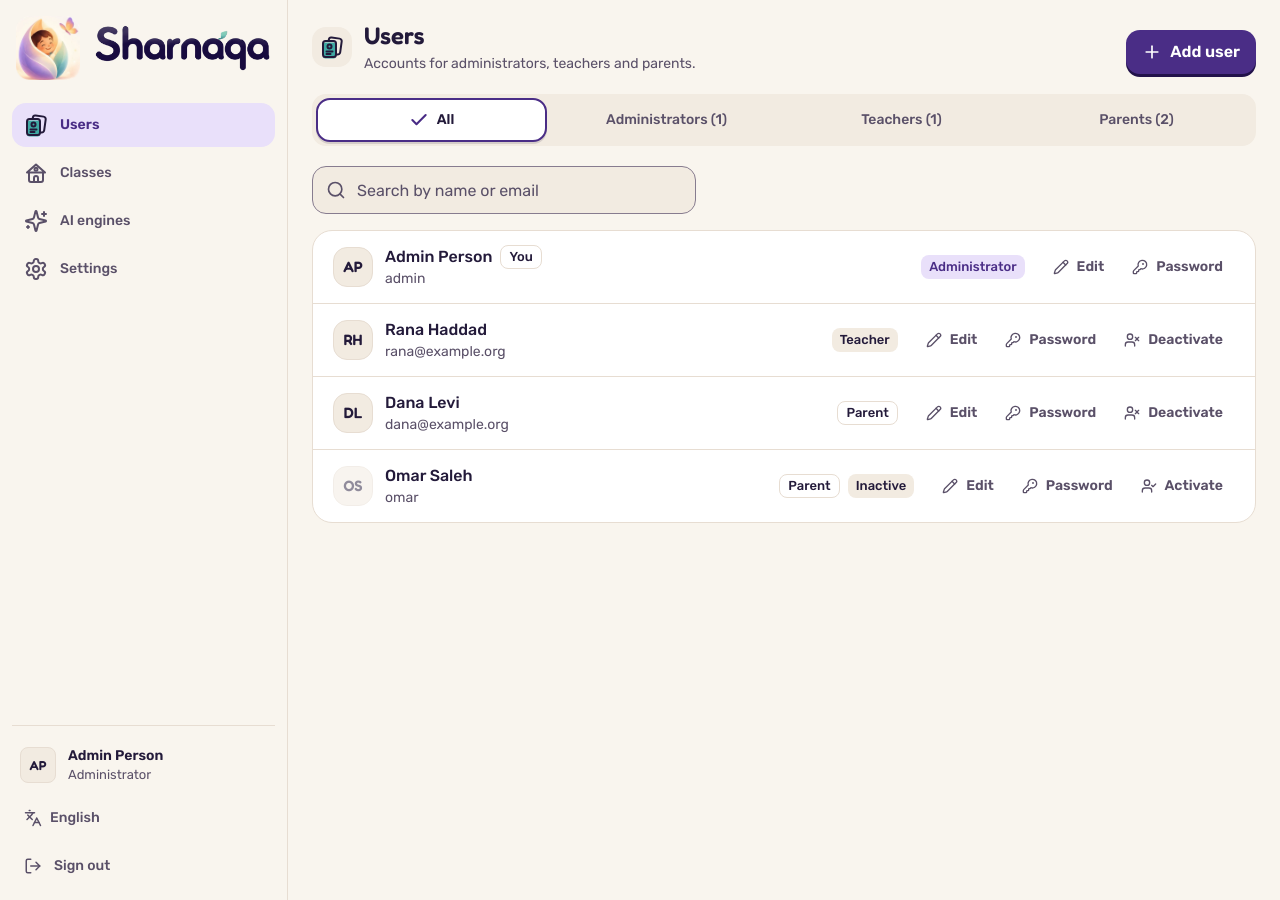
Test: UsersPage › filters by role tab and search
Expected: the text "Rana Haddad" is shown, top-left (385, 318), bottom-right (487, 342)
Click the tab "Parents (2)".
click(1136, 120)  # box top-left (1021, 98), bottom-right (1252, 142)
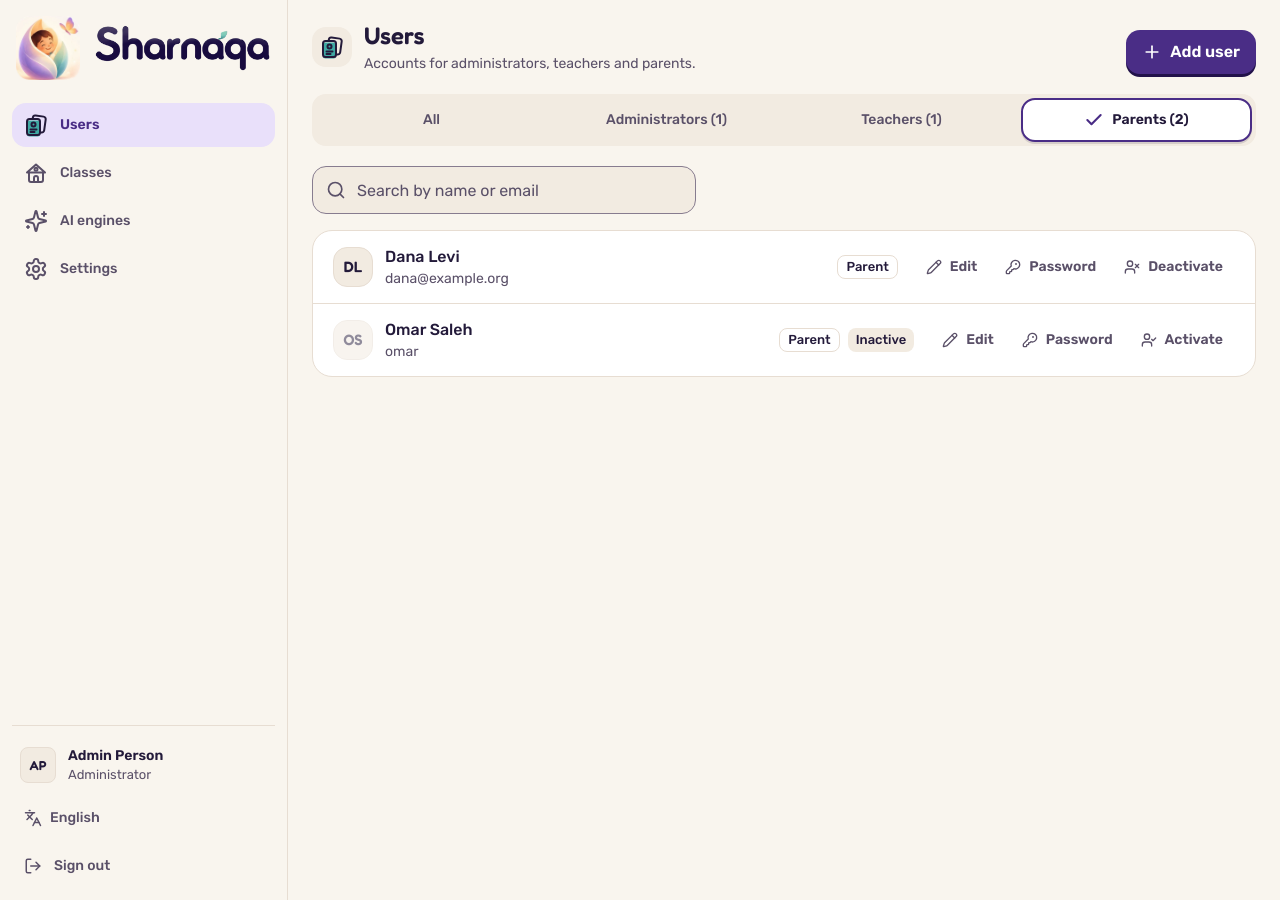
Expected: the text "Dana Levi" is shown, top-left (385, 245), bottom-right (460, 269)
Expected: the text "Rana Haddad" is gone
Type "omar" into the search field labelled "Search by name or email".
click(504, 190); type("omar")  # box top-left (312, 166), bottom-right (696, 214)
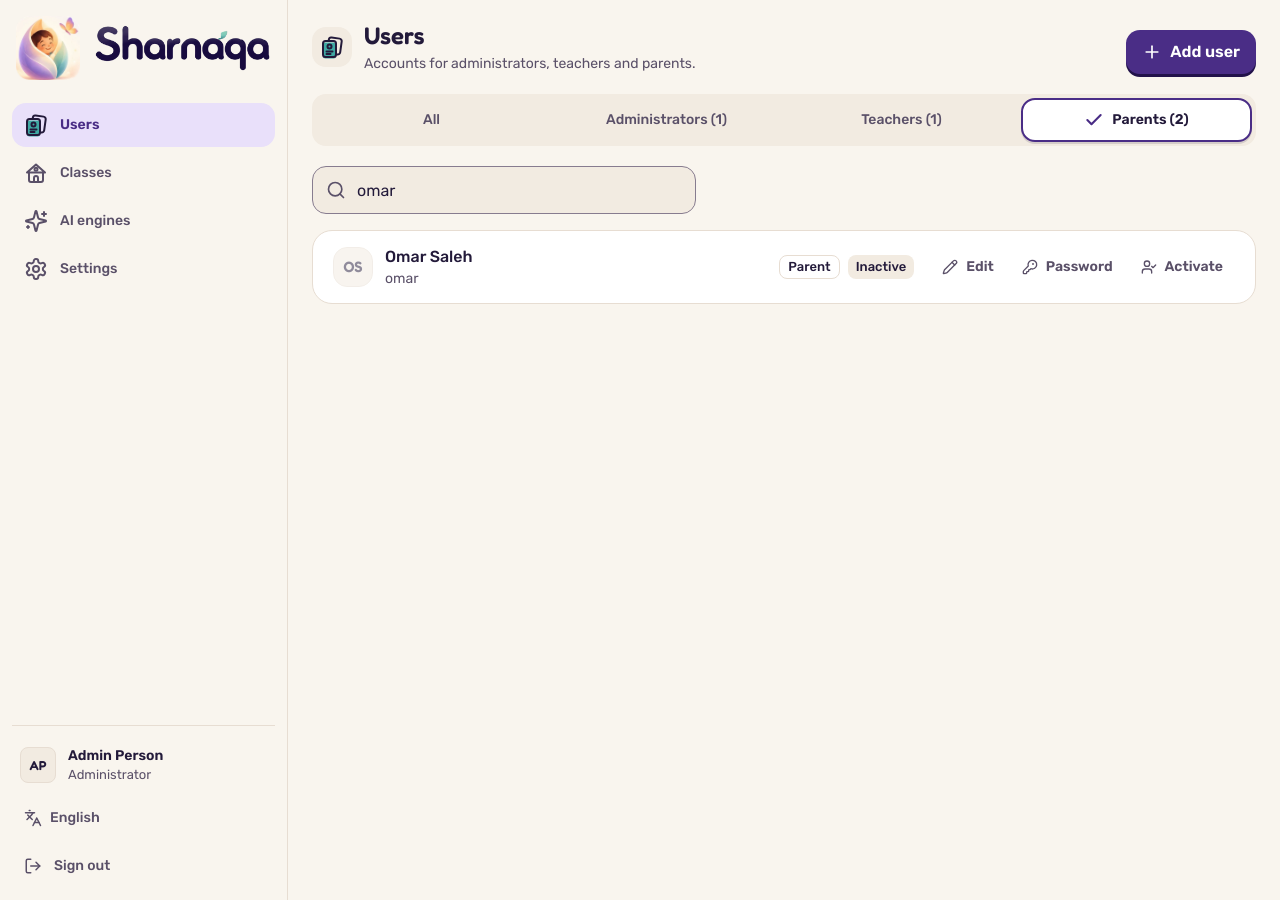
Expected: the text "Omar Saleh" is shown, top-left (385, 245), bottom-right (473, 269)
Expected: the text "Dana Levi" is gone
